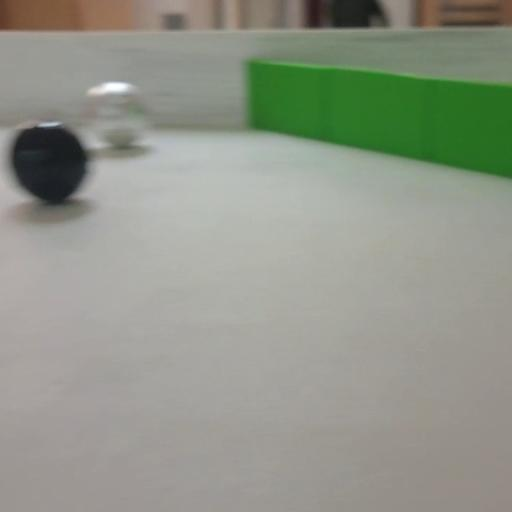alive: (82, 80, 152, 151)
dead: (6, 118, 92, 204)
